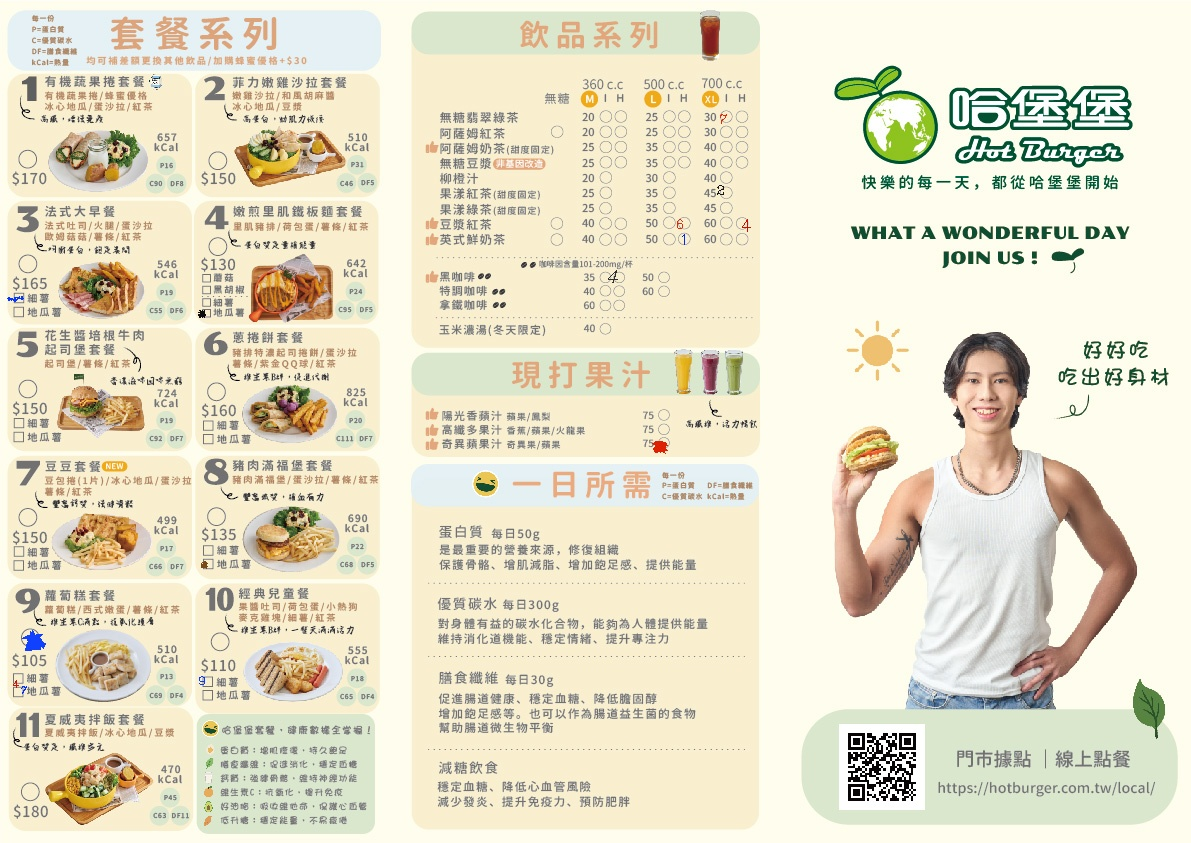marked_circle: (21, 628, 40, 648), (657, 439, 669, 451), (201, 559, 212, 567), (199, 308, 210, 316)
marked_number_1: (677, 232, 689, 244)
marked_number_2: (719, 185, 731, 197)
marked_number_4: (612, 272, 624, 284), (735, 216, 747, 228), (11, 673, 22, 681)
marked_number_6: (677, 218, 689, 230)
marked_number_7: (719, 111, 731, 123), (12, 686, 23, 694)
marked_number_9: (201, 675, 212, 683)
marked_tick: (12, 293, 23, 301)
